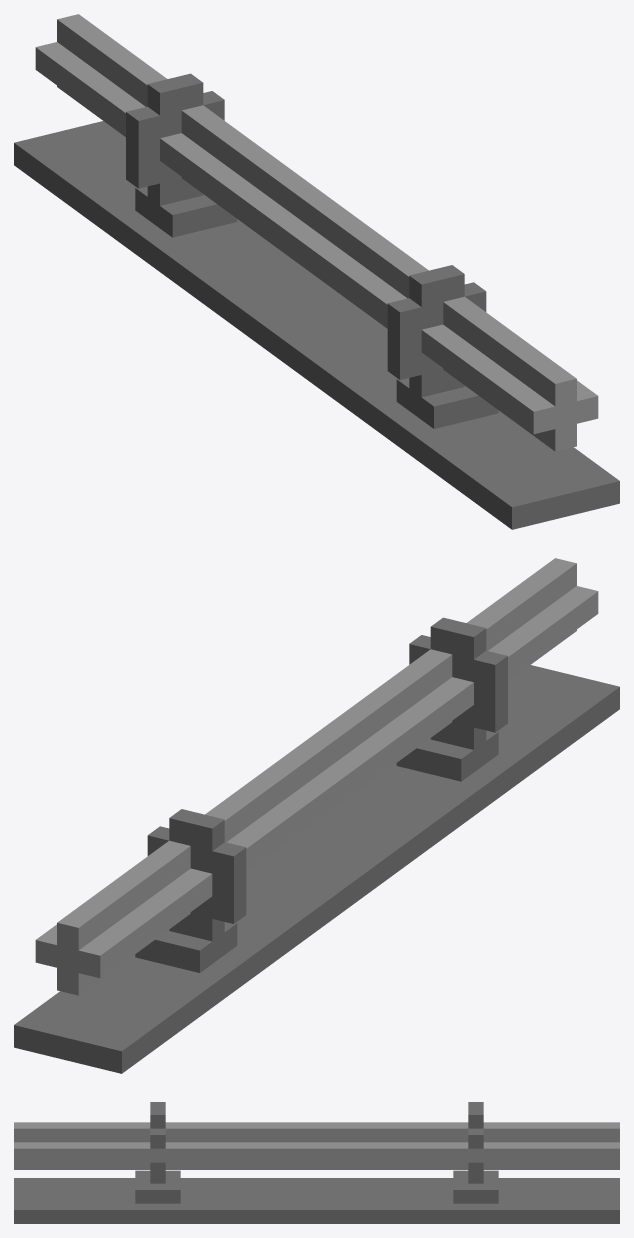
Rendered from All-9-Zabor_6.obj.
3 renders of one model, top to bottom at view 1: azimuth 30°, elevation 25°; view 2: azimuth 150°, elevation 25°; view 3: azimuth 270°, elevation 25°, orthographic. The views are drawn at different scales.
Parts seen in each view (by area): view 1: Zabor_6; view 2: Zabor_6; view 3: Zabor_6.
Part boxes in pixels (left/top/right/bottom): Zabor_6: left=14, top=14, right=619, bottom=529; Zabor_6: left=14, top=558, right=619, bottom=1073; Zabor_6: left=14, top=1102, right=619, bottom=1223.
Bounding box in the file's own units: 0.5 × 0.7 × 4.
1 material, 1 textured.
